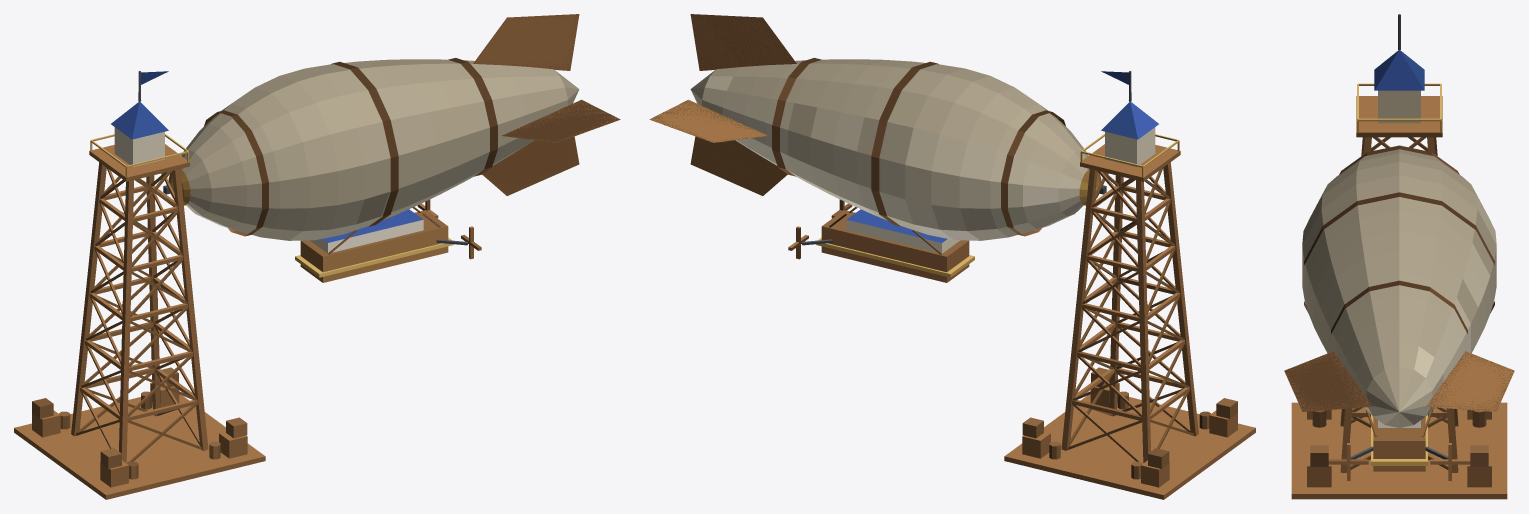
The model's file is landmark.glb.
3 renders of one model, left to right at view 1: azimuth 30°, elevation 25°; view 2: azimuth 150°, elevation 25°; view 3: azimuth 270°, elevation 25°, orthographic. The views are drawn at different scales.
Visible parts, largest first — view 1: airship; view 2: airship; view 3: airship.
Part boxes in pixels (box(x1,y1,x2,y2)): airship: box(14, 14, 620, 499); airship: box(649, 14, 1255, 499); airship: box(1284, 14, 1514, 499).
Size of the model in its own units: 45.6 by 31.5 by 15.
1 material, 1 textured.
